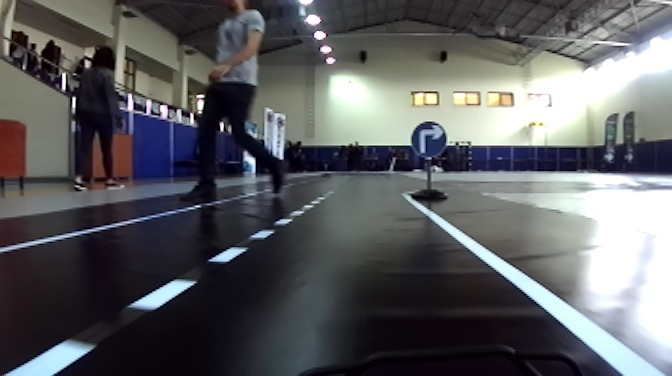saga_donus: (411, 119, 448, 160)
